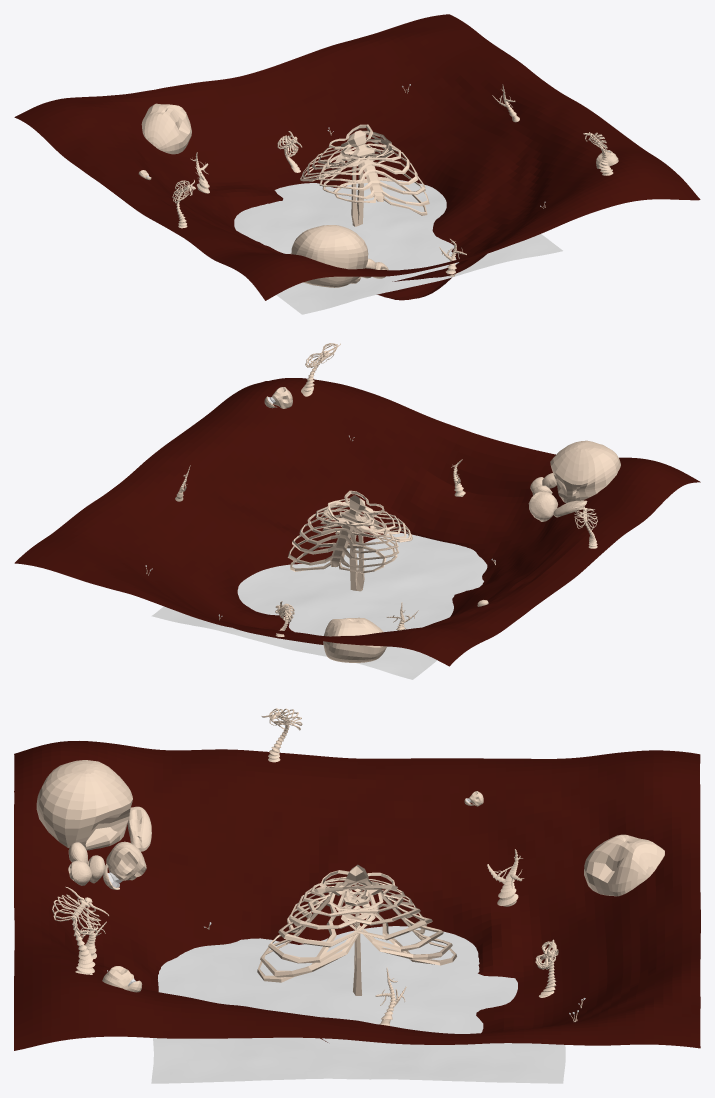
3 views of the same model, one above another, from view 1: azimuth 30°, elevation 25°; view 2: azimuth 150°, elevation 25°; view 3: azimuth 270°, elevation 25° (orthographic). The views are drawn at different scales.
Parts seen in each view (by area): view 1: Backup Maxres, Ocean, Pelvis Large.001, Head Upper.003, Head Upper.005, Ribtree, Ribtree.002; view 2: Backup Maxres, Ocean, Pelvis Large.001, Head Upper.003, Head Upper.005, Jaw.001, Ribtree.001; view 3: Backup Maxres, Ocean, Pelvis Large.001, Head Upper.003, Head Upper.005, Ribtree.001, Jaw.001, Head Upper.004, Tree.001, Ribtree, Ribtree.002, Jaw.000.
Part boxes in pixels (x1,y1,x2,y2): Backup Maxres: (14,14,700,300); Ocean: (234,179,562,314); Pelvis Large.001: (300,124,429,226); Head Upper.003: (291,225,368,287); Head Upper.005: (141,103,191,154); Ribtree: (172,180,195,228); Ribtree.002: (277,131,302,172); Backup Maxres: (14,378,700,666); Ocean: (151,533,487,679); Pelvis Large.001: (288,490,412,591); Head Upper.003: (550,440,620,503); Head Upper.005: (323,617,386,662); Jaw.001: (528,491,557,521); Ribtree.001: (301,343,340,396); Backup Maxres: (14,741,700,1050); Ocean: (151,926,565,1083); Pelvis Large.001: (257,864,456,995); Head Upper.003: (36,760,132,850); Head Upper.005: (584,834,664,896); Ribtree.001: (52,886,108,974); Jaw.001: (103,841,146,889); Head Upper.004: (127,806,151,851); Tree.001: (487,849,524,906); Ribtree: (261,708,302,762); Ribtree.002: (535,939,558,997); Jaw.000: (102,966,142,992).
Bounding box in the file's own units: 2499 × 894 × 2502.
